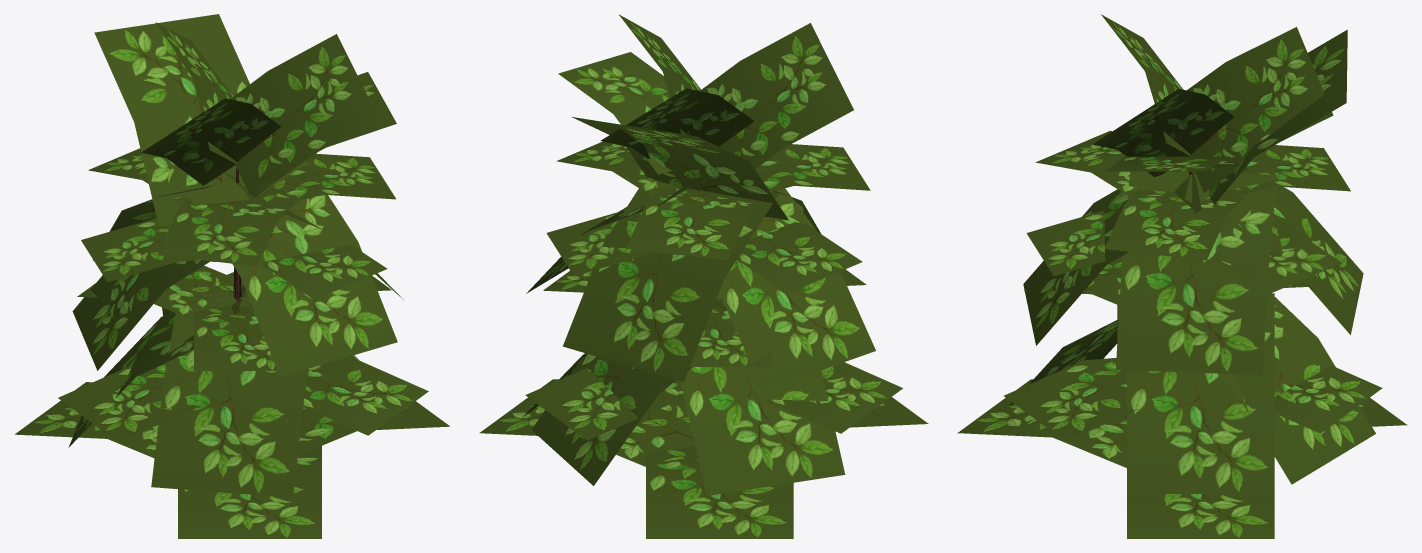
File: small tree3.FBX
3 views of the same model, side by side, from view 1: azimuth 30°, elevation 25°; view 2: azimuth 150°, elevation 25°; view 3: azimuth 270°, elevation 25° (orthographic). The views are drawn at different scales.
Parts seen in each view (by area): view 1: Cylinder001; view 2: Cylinder001; view 3: Cylinder001.
Boxes of the visible parts, left/top/right/bottom form: Cylinder001: left=15, top=14, right=449, bottom=538; Cylinder001: left=479, top=14, right=928, bottom=538; Cylinder001: left=957, top=14, right=1407, bottom=538.
Bounding box in the file's own units: 6.94 × 8.16 × 7.84.
